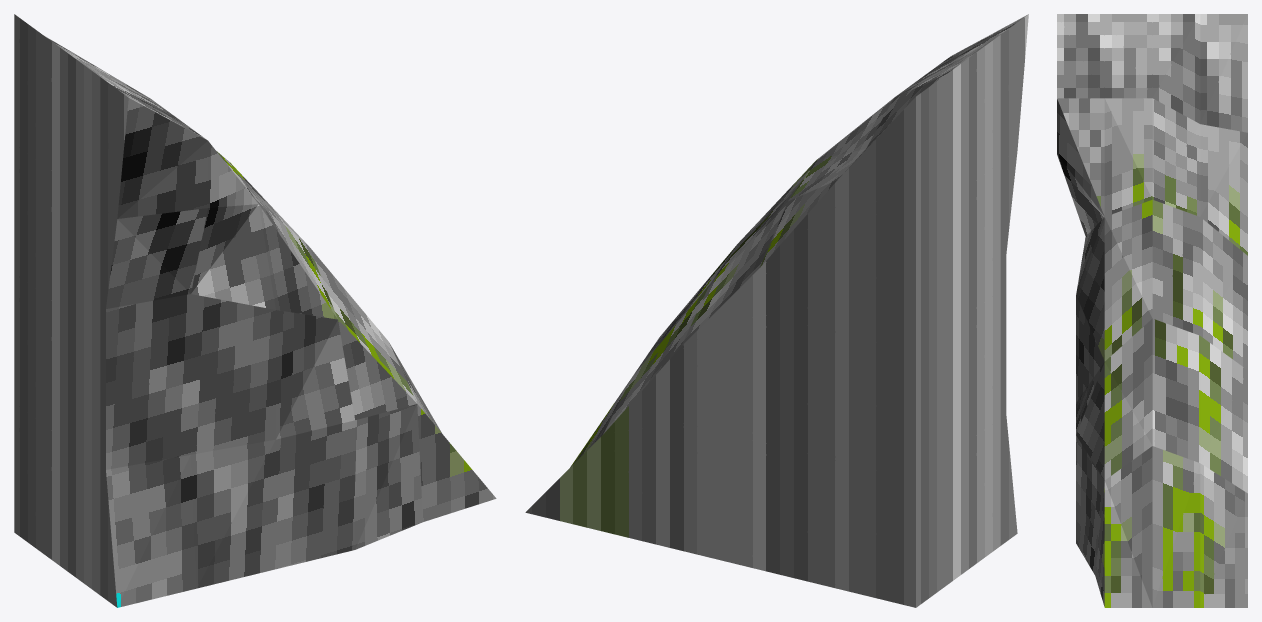
The model's file is cave_694x01.gltf.
The picture shows the model from 3 angles, left to right: view 1: azimuth 30°, elevation 25°; view 2: azimuth 150°, elevation 25°; view 3: azimuth 270°, elevation 25°; orthographic projection. The views are drawn at different scales.
Parts seen in each view (by area): view 1: cave_694x01; view 2: cave_694x01; view 3: cave_694x01.
Boxes of the visible parts, x1,y1,x2,y2 form: cave_694x01: (14, 14, 496, 607); cave_694x01: (525, 14, 1028, 607); cave_694x01: (1057, 14, 1247, 607).
Bounding box in the file's own units: 4 × 5 × 2.
1 material, 1 textured.
